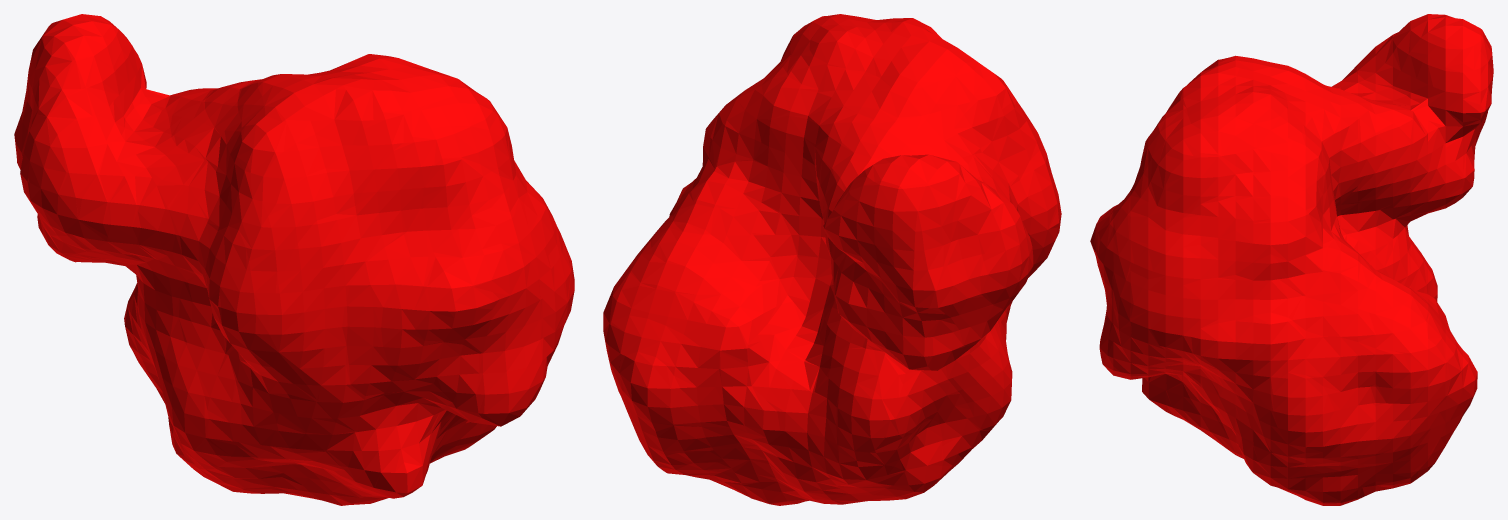
File: fruK_coarse.dae
3 views of the same model, side by side, from view 1: azimuth 30°, elevation 25°; view 2: azimuth 150°, elevation 25°; view 3: azimuth 270°, elevation 25° (orthographic). The views are drawn at different scales.
Parts seen in each view (by area): view 1: fruK; view 2: fruK; view 3: fruK.
Part boxes in pixels (x1,y1,x2,y2): fruK: (14, 14, 574, 505); fruK: (603, 14, 1061, 505); fruK: (1090, 14, 1493, 505).
Bounding box in the file's own units: 55.78 × 55.59 × 51.49.
